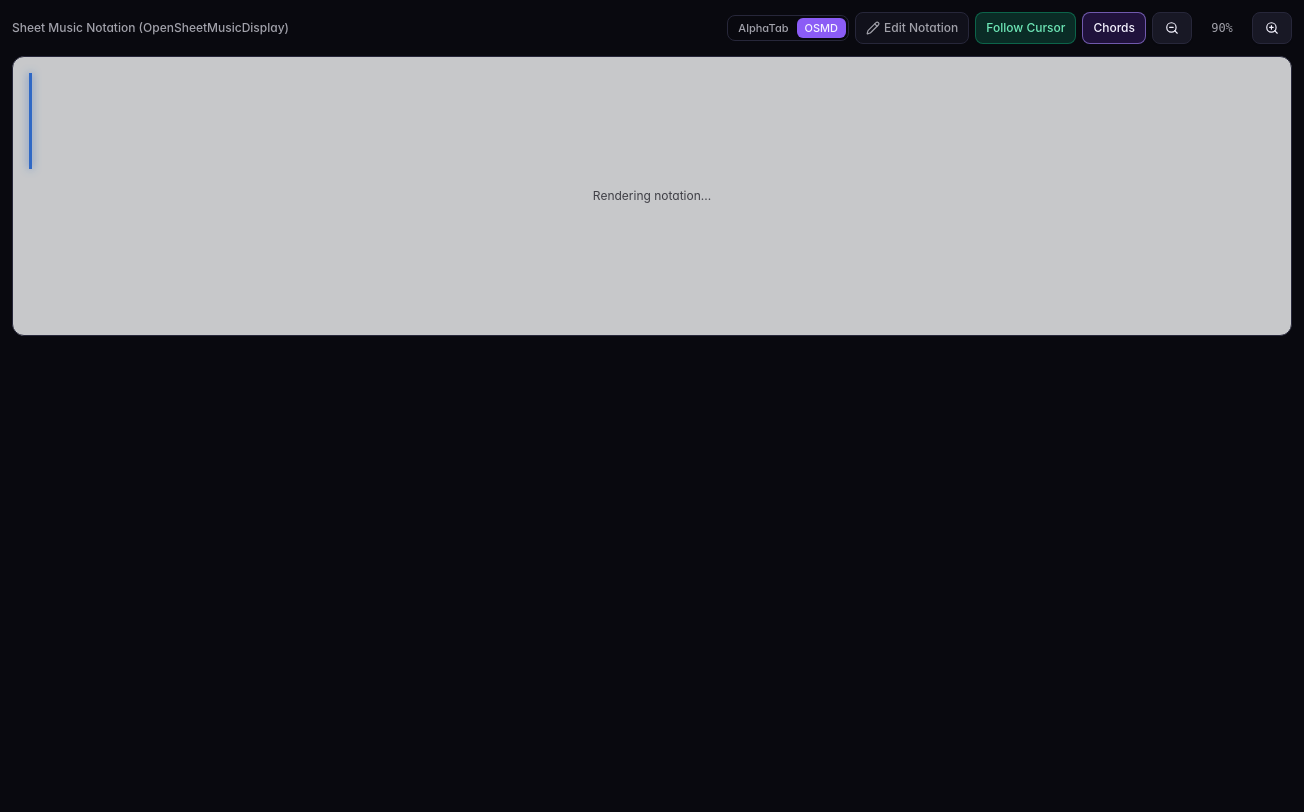
Edit Notation Light-Mode Contrast & Direct Notehead Selection › applies high-contrast Light Mode and Dark Mode classes to Edit Notation toggle, toolbar, readout, and buttons
Click the button "Edit Notation".
click(912, 28)  # box [855, 12, 969, 44]
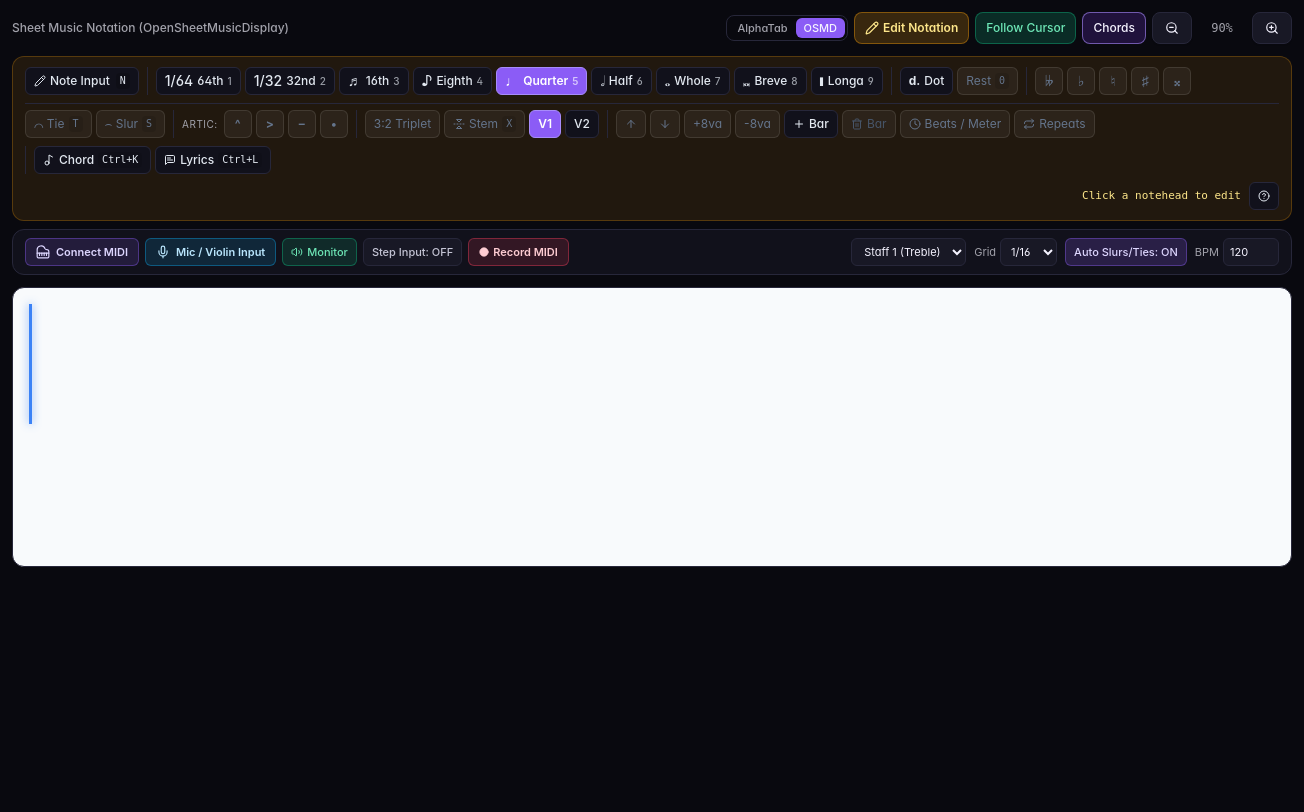
Now the text with test id "notation-edit-readout" reads "Click a notehead to edit", box [1082, 189, 1241, 202]
Now the button named "Pitch up" is disabled, box [616, 110, 646, 138]
Now the button with aria-label "Add measure" is enabled, box [784, 110, 838, 138]
